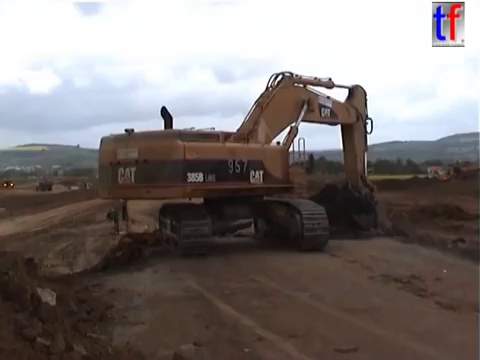excavator: (94, 67, 385, 255)
truck: (105, 192, 260, 268), (35, 177, 55, 192), (1, 176, 17, 190)
